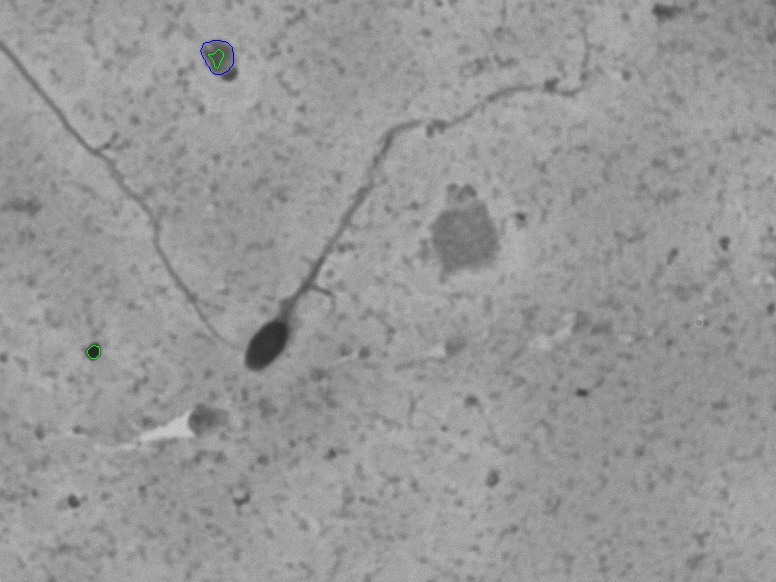Normal: (238, 22, 610, 385)
